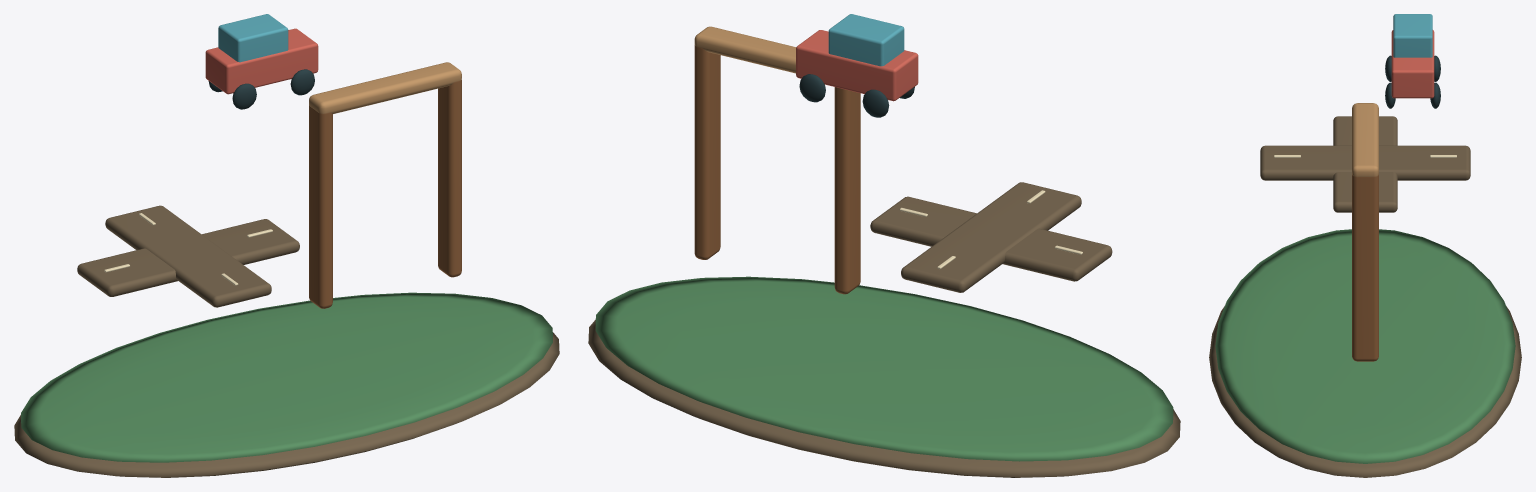
File: complete-third-crossing-through.glb
3 renders of one model, left to right at view 1: azimuth 30°, elevation 25°; view 2: azimuth 150°, elevation 25°; view 3: azimuth 270°, elevation 25°, orthographic. The views are drawn at different scales.
Parts seen in each view (by area): view 1: complete-third-crossing-through_surface_01, complete-third-crossing-through_surface_00, complete-third-crossing-through_surface_03, complete-third-crossing-through_surface_05, complete-third-crossing-through_surface_04, complete-third-crossing-through_surface_06, complete-third-crossing-through_surface_07; view 2: complete-third-crossing-through_surface_01, complete-third-crossing-through_surface_00, complete-third-crossing-through_surface_03, complete-third-crossing-through_surface_05, complete-third-crossing-through_surface_06, complete-third-crossing-through_surface_04, complete-third-crossing-through_surface_07; view 3: complete-third-crossing-through_surface_01, complete-third-crossing-through_surface_00, complete-third-crossing-through_surface_03, complete-third-crossing-through_surface_05, complete-third-crossing-through_surface_04, complete-third-crossing-through_surface_06, complete-third-crossing-through_surface_07.
Boxes of the visible parts, x1,y1,x2,y2 form: complete-third-crossing-through_surface_01: (21,292,552,462); complete-third-crossing-through_surface_00: (14,205,559,477); complete-third-crossing-through_surface_03: (309,79,461,308); complete-third-crossing-through_surface_05: (205,28,318,94); complete-third-crossing-through_surface_04: (309,62,461,113); complete-third-crossing-through_surface_06: (218,14,288,62); complete-third-crossing-through_surface_07: (208,69,314,109); complete-third-crossing-through_surface_01: (595,276,1173,461); complete-third-crossing-through_surface_00: (588,182,1180,477); complete-third-crossing-through_surface_03: (694,45,860,294); complete-third-crossing-through_surface_05: (796,30,918,101); complete-third-crossing-through_surface_06: (828,14,904,66); complete-third-crossing-through_surface_04: (694,26,796,73); complete-third-crossing-through_surface_07: (799,74,914,117); complete-third-crossing-through_surface_01: (1215,229,1515,463); complete-third-crossing-through_surface_00: (1209,116,1521,477); complete-third-crossing-through_surface_03: (1352,175,1378,361); complete-third-crossing-through_surface_05: (1391,30,1434,98); complete-third-crossing-through_surface_04: (1352,103,1378,176); complete-third-crossing-through_surface_06: (1393,14,1432,57); complete-third-crossing-through_surface_07: (1385,55,1440,108).
Size of the model in its own units: 4.56 by 3.03 by 2.5.
